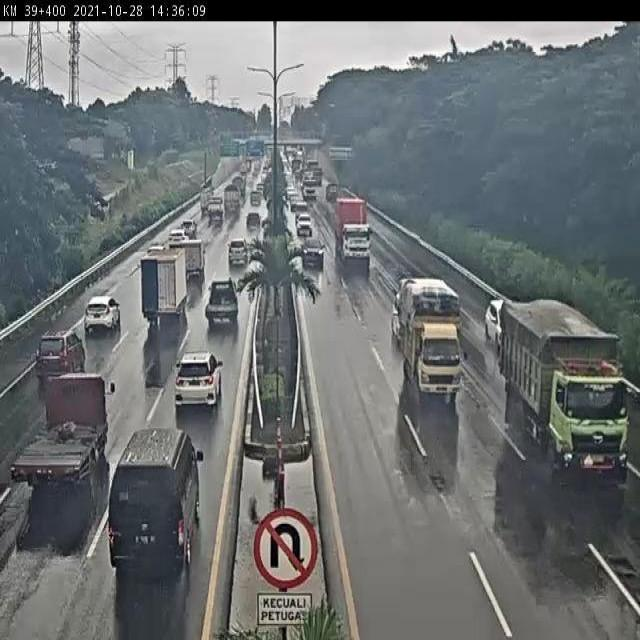truck-m-: (502, 305, 627, 480), (10, 376, 109, 488), (397, 280, 462, 403), (140, 248, 185, 321)
truck-xl-: (335, 196, 374, 263)
